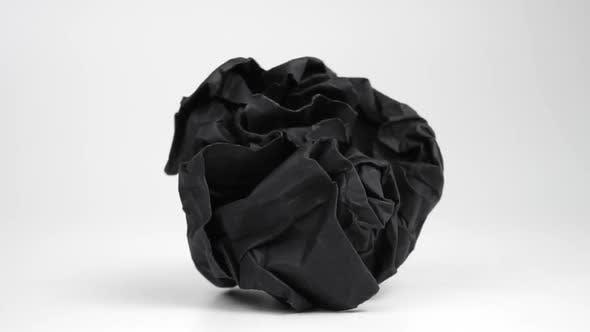paper: (165, 57, 442, 310)
